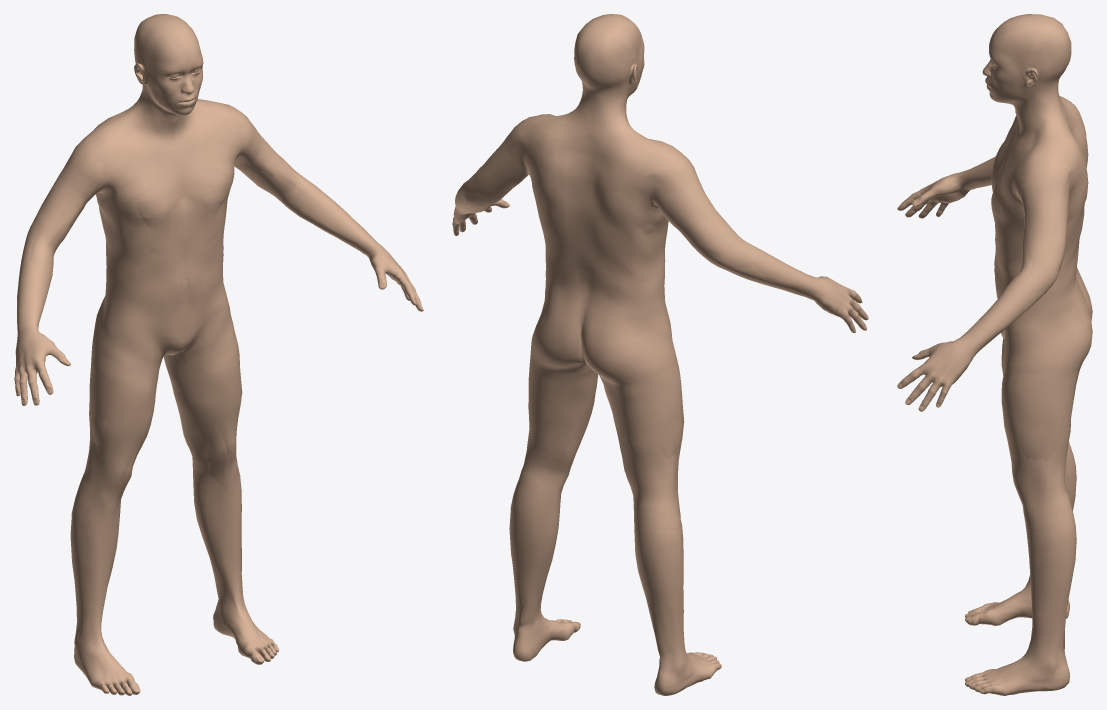
File: male.glb
3 renders of one model, left to right at view 1: azimuth 30°, elevation 25°; view 2: azimuth 150°, elevation 25°; view 3: azimuth 270°, elevation 25°, orthographic.
Visible parts, largest first — view 1: robusta-body, media-body, delgada-body; view 2: robusta-body, delgada-body, media-body; view 3: robusta-body, delgada-body, media-body.
Boxes of the visible parts, x1,y1,x2,y2 form: robusta-body: (15,99,400,550); media-body: (30,84,356,637); delgada-body: (14,14,423,695); robusta-body: (453,98,845,572); delgada-body: (452,14,868,695); media-body: (457,81,778,659); robusta-body: (929,92,1092,545); delgada-body: (897,14,1076,695); media-body: (972,75,1087,655).
Size of the model in its own units: 1.96 by 3 by 0.833.
